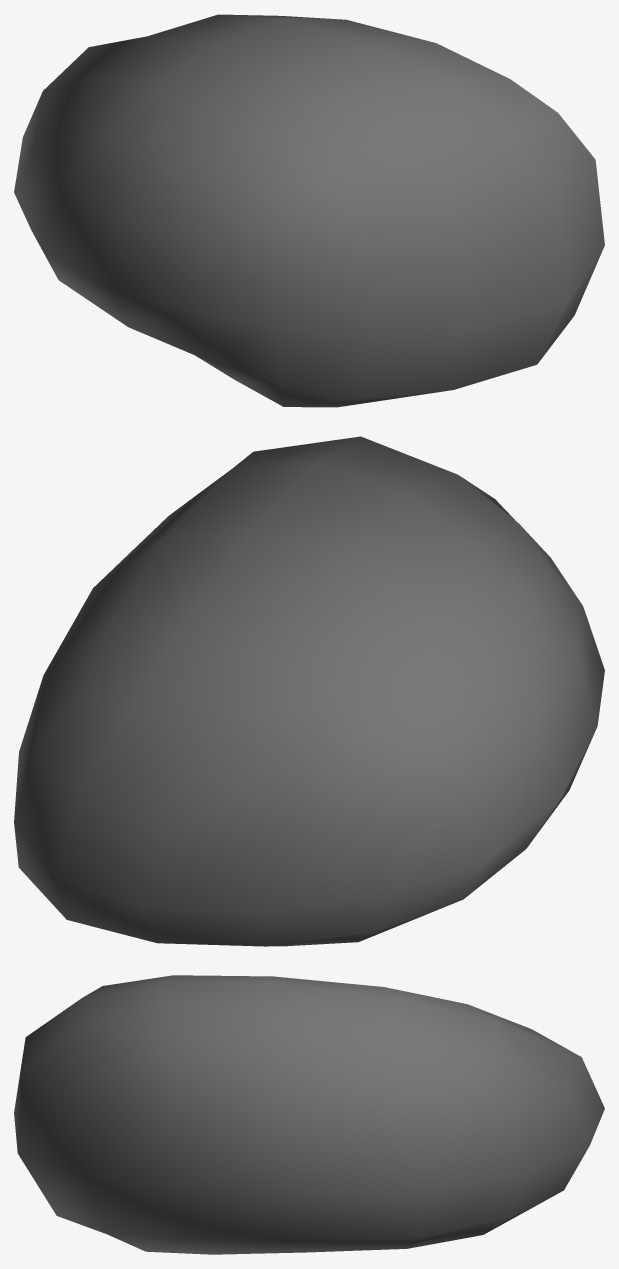
Rendered from Pebble_4a.gltf.
The picture shows the model from 3 angles, top to bottom: view 1: azimuth 30°, elevation 25°; view 2: azimuth 150°, elevation 25°; view 3: azimuth 270°, elevation 25°; orthographic projection. The views are drawn at different scales.
Visible parts, largest first — view 1: Pebble_4a; view 2: Pebble_4a; view 3: Pebble_4a.
Boxes of the visible parts, left/top/right/bottom form: Pebble_4a: left=14, top=14, right=604, bottom=407; Pebble_4a: left=14, top=436, right=604, bottom=946; Pebble_4a: left=14, top=975, right=604, bottom=1254.
Bounding box in the file's own units: 43.18 × 28.15 × 62.82.
Materials: 1 (1 with a texture image).
